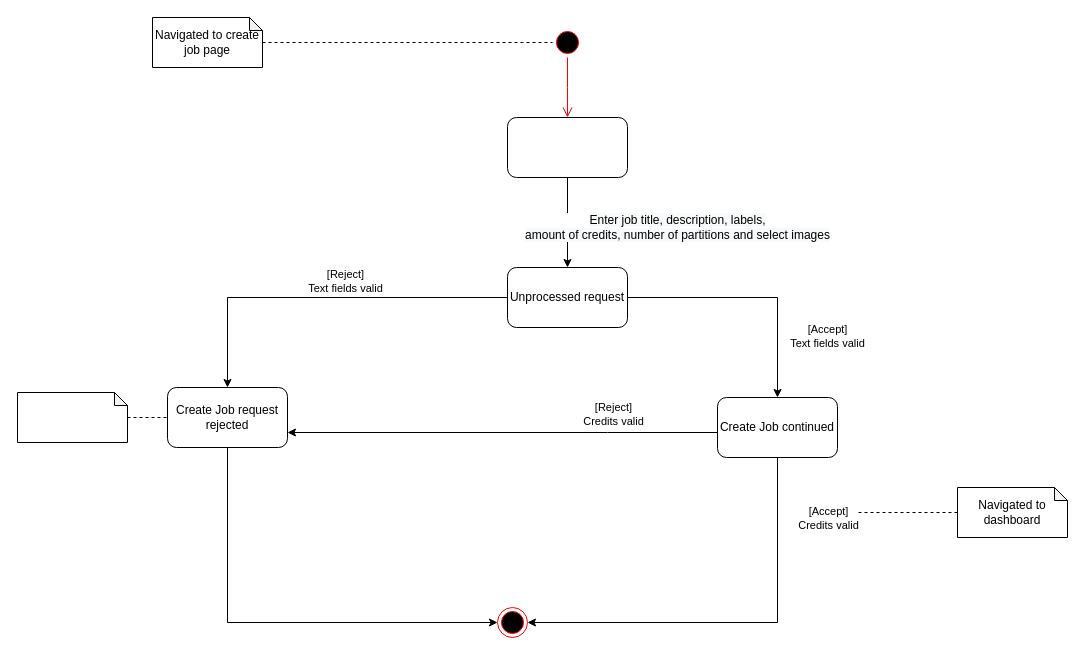
The diagram is 1085 pixels wide and 655 high, and some of its shapes have lost their labels. Here are the shapes that lost their labels. From the top down, the centre of each, then its label:
At point 567,147: "Visit create job page".
At point 72,417: "User remains on create job page".
